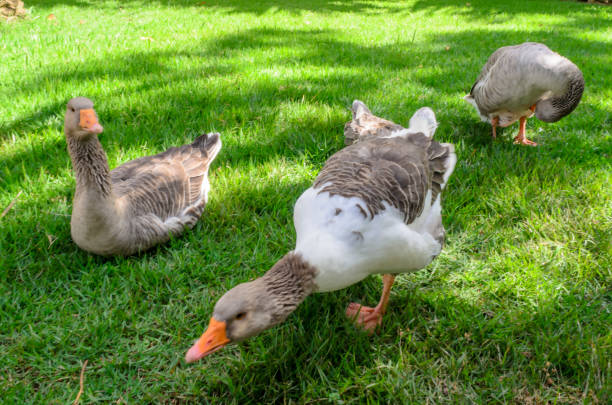goose: (176, 91, 465, 376), (40, 94, 235, 261), (456, 33, 590, 151)
